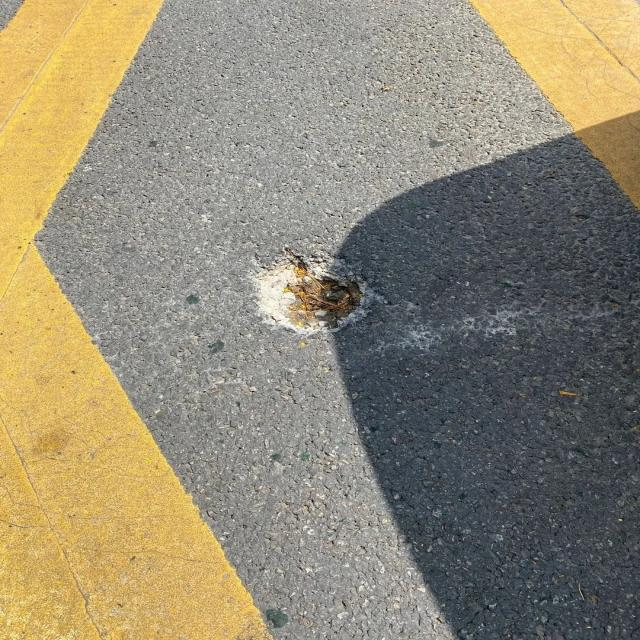Pothole: (241, 250, 378, 339)
